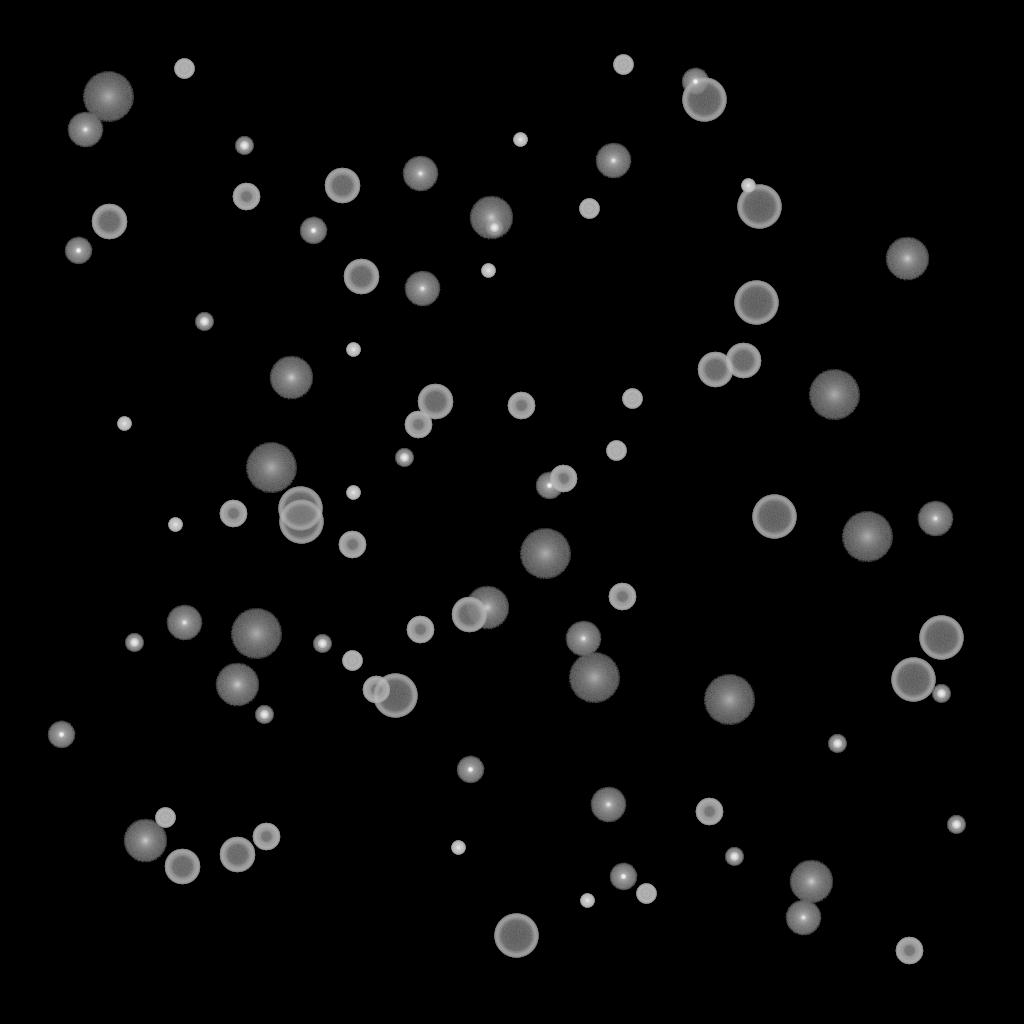depth:-10: (681, 68, 709, 96), (535, 472, 563, 500), (64, 237, 92, 265), (456, 756, 484, 784), (609, 863, 637, 891), (47, 721, 75, 749), (299, 217, 327, 245)
depth:-20: (395, 449, 413, 467), (313, 635, 331, 653), (255, 706, 273, 724), (932, 685, 950, 703), (235, 137, 253, 155), (725, 848, 743, 866), (947, 816, 965, 834), (828, 735, 846, 753), (195, 313, 213, 331), (125, 634, 143, 652), (485, 219, 503, 237)
depth:-30: (117, 417, 131, 431), (346, 486, 360, 500), (580, 894, 594, 908), (513, 133, 527, 147), (741, 179, 755, 193), (451, 841, 465, 855), (481, 264, 495, 278), (346, 343, 360, 357), (168, 518, 182, 532)
depth:-40: (606, 441, 626, 461), (579, 199, 599, 219), (613, 55, 633, 75), (636, 884, 656, 904), (155, 808, 175, 828), (174, 59, 194, 79), (622, 389, 642, 409), (342, 651, 362, 671)
depth:-50: (252, 823, 280, 851), (338, 531, 366, 559), (362, 676, 390, 704), (232, 183, 260, 211), (695, 798, 723, 826), (406, 616, 434, 644), (404, 411, 432, 439), (549, 465, 577, 493), (219, 500, 247, 528), (507, 392, 535, 420), (895, 937, 923, 965), (608, 583, 636, 611)
depth:-60: (343, 259, 379, 295), (219, 837, 255, 873), (164, 849, 200, 885), (91, 204, 127, 240), (697, 352, 733, 388), (417, 384, 453, 420), (451, 597, 487, 633), (725, 343, 761, 379), (324, 168, 360, 204)
depth:-70: (278, 487, 322, 531), (891, 658, 935, 702), (919, 616, 963, 660), (279, 500, 323, 544), (373, 674, 417, 718), (737, 185, 781, 229), (752, 495, 796, 539), (682, 78, 726, 122), (734, 281, 778, 325), (494, 914, 538, 958)
depth:0: (595, 143, 631, 179), (166, 605, 202, 641), (67, 112, 103, 148), (917, 501, 953, 537), (565, 621, 601, 657), (404, 271, 440, 307), (590, 787, 626, 823), (785, 900, 821, 936), (402, 156, 438, 192)
depth:10: (469, 196, 513, 240), (789, 860, 833, 904), (215, 663, 259, 707), (465, 586, 509, 630), (123, 819, 167, 863), (885, 237, 929, 281), (269, 356, 313, 400)
depth:20: (703, 675, 755, 725), (230, 609, 282, 659), (519, 529, 571, 579), (808, 370, 860, 420), (568, 653, 620, 703), (82, 72, 134, 122), (841, 512, 893, 562), (245, 443, 297, 493)
